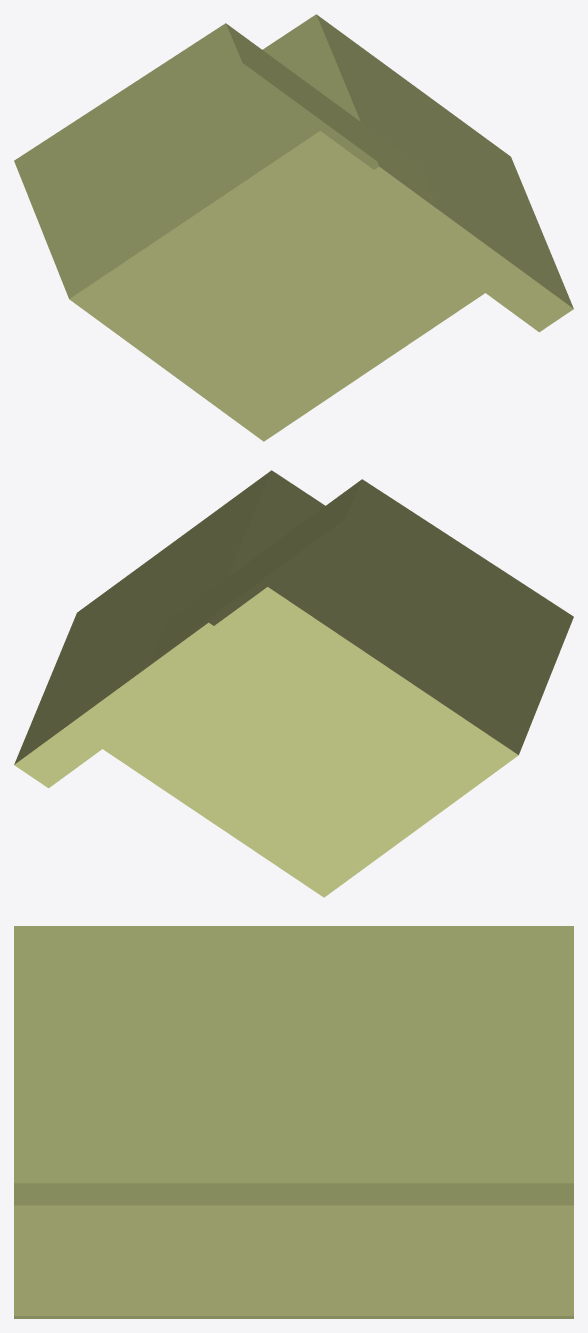
The picture shows the model from 3 angles, top to bottom: view 1: azimuth 30°, elevation 25°; view 2: azimuth 150°, elevation 25°; view 3: azimuth 270°, elevation 25°; orthographic projection. The views are drawn at different scales.
Parts seen in each view (by area): view 1: 0_0_1_2_0_0_3_0_1_3_0; view 2: 0_0_1_2_0_0_3_0_1_3_0; view 3: 0_0_1_2_0_0_3_0_1_3_0.
Boxes of the visible parts, left/top/right/bottom form: 0_0_1_2_0_0_3_0_1_3_0: left=14, top=14, right=573, bottom=441; 0_0_1_2_0_0_3_0_1_3_0: left=14, top=470, right=573, bottom=897; 0_0_1_2_0_0_3_0_1_3_0: left=14, top=926, right=573, bottom=1318.
Size of the model in its own units: 9.75 by 6.07 by 9.
